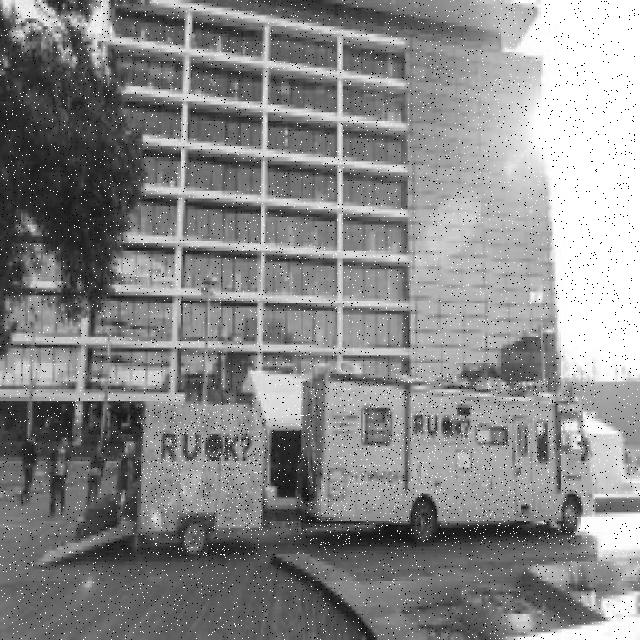Box Truck: (141, 403, 266, 556)
Bus: (296, 374, 596, 545)
